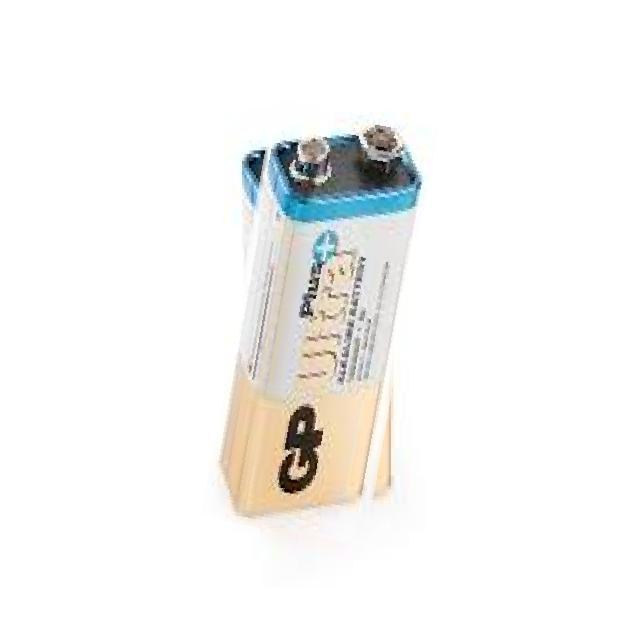Battery: (218, 111, 420, 535)
